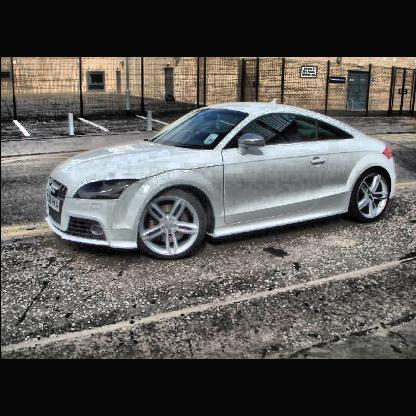Audi TT Hatchback 2011: (44, 102, 396, 259)
